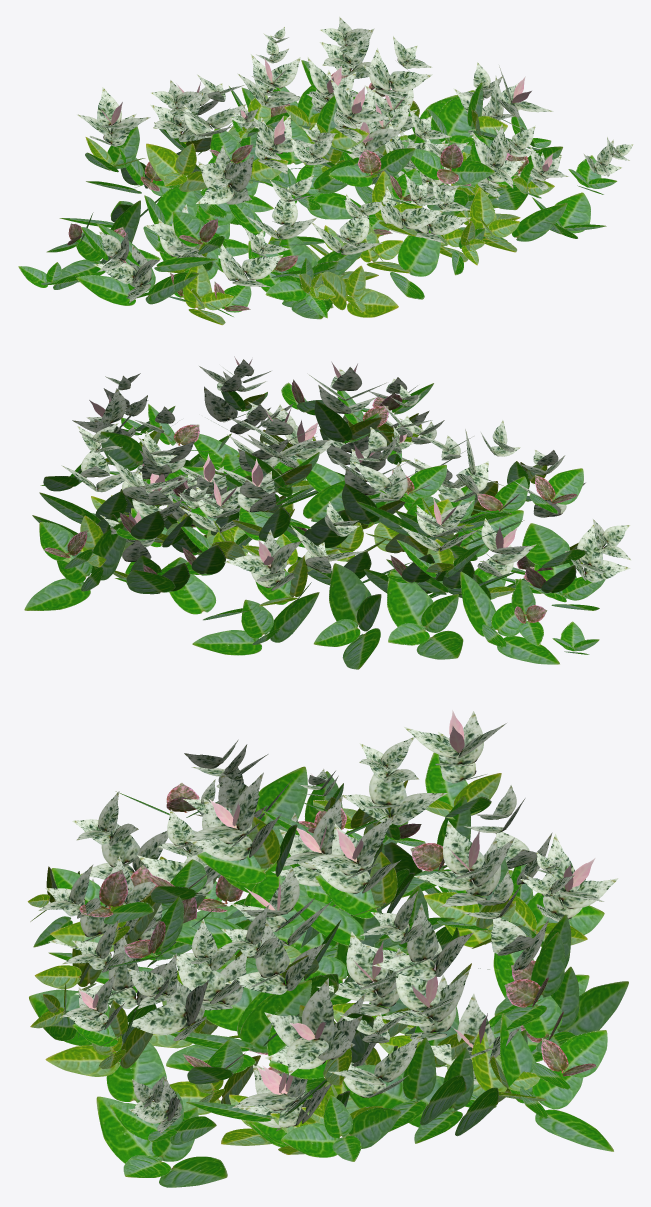
File: hatsuyukikazura_nocolor.fbx
3 renders of one model, top to bottom at view 1: azimuth 30°, elevation 25°; view 2: azimuth 150°, elevation 25°; view 3: azimuth 270°, elevation 25°, orthographic. The views are drawn at different scales.
Visible parts, largest first — view 1: h4503.001, h4503.017, h4503.011, h4503.023, h4503.005, h4503.010, h4501.006, h4499.007, h4500.006, h4500.001, h4503.002, h4503.022 (+63 smaller); view 2: h4500.015, h4500.029, h4500.017, h4500.002, h4500.023, h4503.001, h4503.007, h4503.011, h4503.017, h4503.023, h4503.013, h4503.005 (+62 smaller); view 3: h4503.023, h4503.017, h4503.013, h4503.011, h4503.001, h4500.040, h4500.023, h4503.025, h4500.027, h4500.035, h4503.007, h4503.014 (+65 smaller).
Part boxes in pixels (bbox=[...]): h4503.001: bbox=[77, 87, 150, 172]; h4503.017: bbox=[309, 78, 393, 153]; h4503.011: bbox=[229, 54, 300, 129]; h4503.023: bbox=[467, 65, 553, 141]; h4503.005: bbox=[236, 115, 312, 185]; h4503.010: bbox=[196, 145, 253, 204]; h4501.006: bbox=[322, 265, 398, 317]; h4499.007: bbox=[410, 142, 494, 184]; h4500.006: bbox=[76, 268, 198, 305]; h4500.001: bbox=[265, 236, 338, 319]; h4503.002: bbox=[93, 231, 159, 302]; h4503.022: bbox=[319, 16, 374, 78]; h4500.015: bbox=[387, 571, 463, 659]; h4500.029: bbox=[313, 563, 381, 669]; h4500.017: bbox=[192, 592, 319, 655]; h4500.002: bbox=[460, 571, 559, 664]; h4500.023: bbox=[24, 522, 127, 610]; h4503.001: bbox=[397, 497, 484, 577]; h4503.007: bbox=[224, 529, 311, 610]; h4503.011: bbox=[216, 458, 294, 540]; h4503.017: bbox=[307, 361, 386, 443]; h4503.023: bbox=[72, 388, 161, 470]; h4503.013: bbox=[241, 407, 320, 487]; h4503.005: bbox=[329, 443, 407, 524]; h4503.023: bbox=[264, 978, 373, 1085]; h4503.017: bbox=[186, 772, 297, 883]; h4503.013: bbox=[302, 814, 414, 918]; h4503.011: bbox=[414, 820, 514, 930]; h4503.001: bbox=[404, 710, 506, 819]; h4500.040: bbox=[96, 1096, 227, 1187]; h4500.023: bbox=[500, 1014, 613, 1151]; h4503.025: bbox=[379, 965, 474, 1067]; h4500.027: bbox=[342, 1037, 466, 1131]; h4500.035: bbox=[281, 1095, 401, 1161]; h4503.007: bbox=[508, 833, 618, 946]; h4503.014: bbox=[360, 891, 473, 980].
Bounding box in the file's own units: 39.51 × 13.36 × 27.64.
5 materials, 5 textured.
